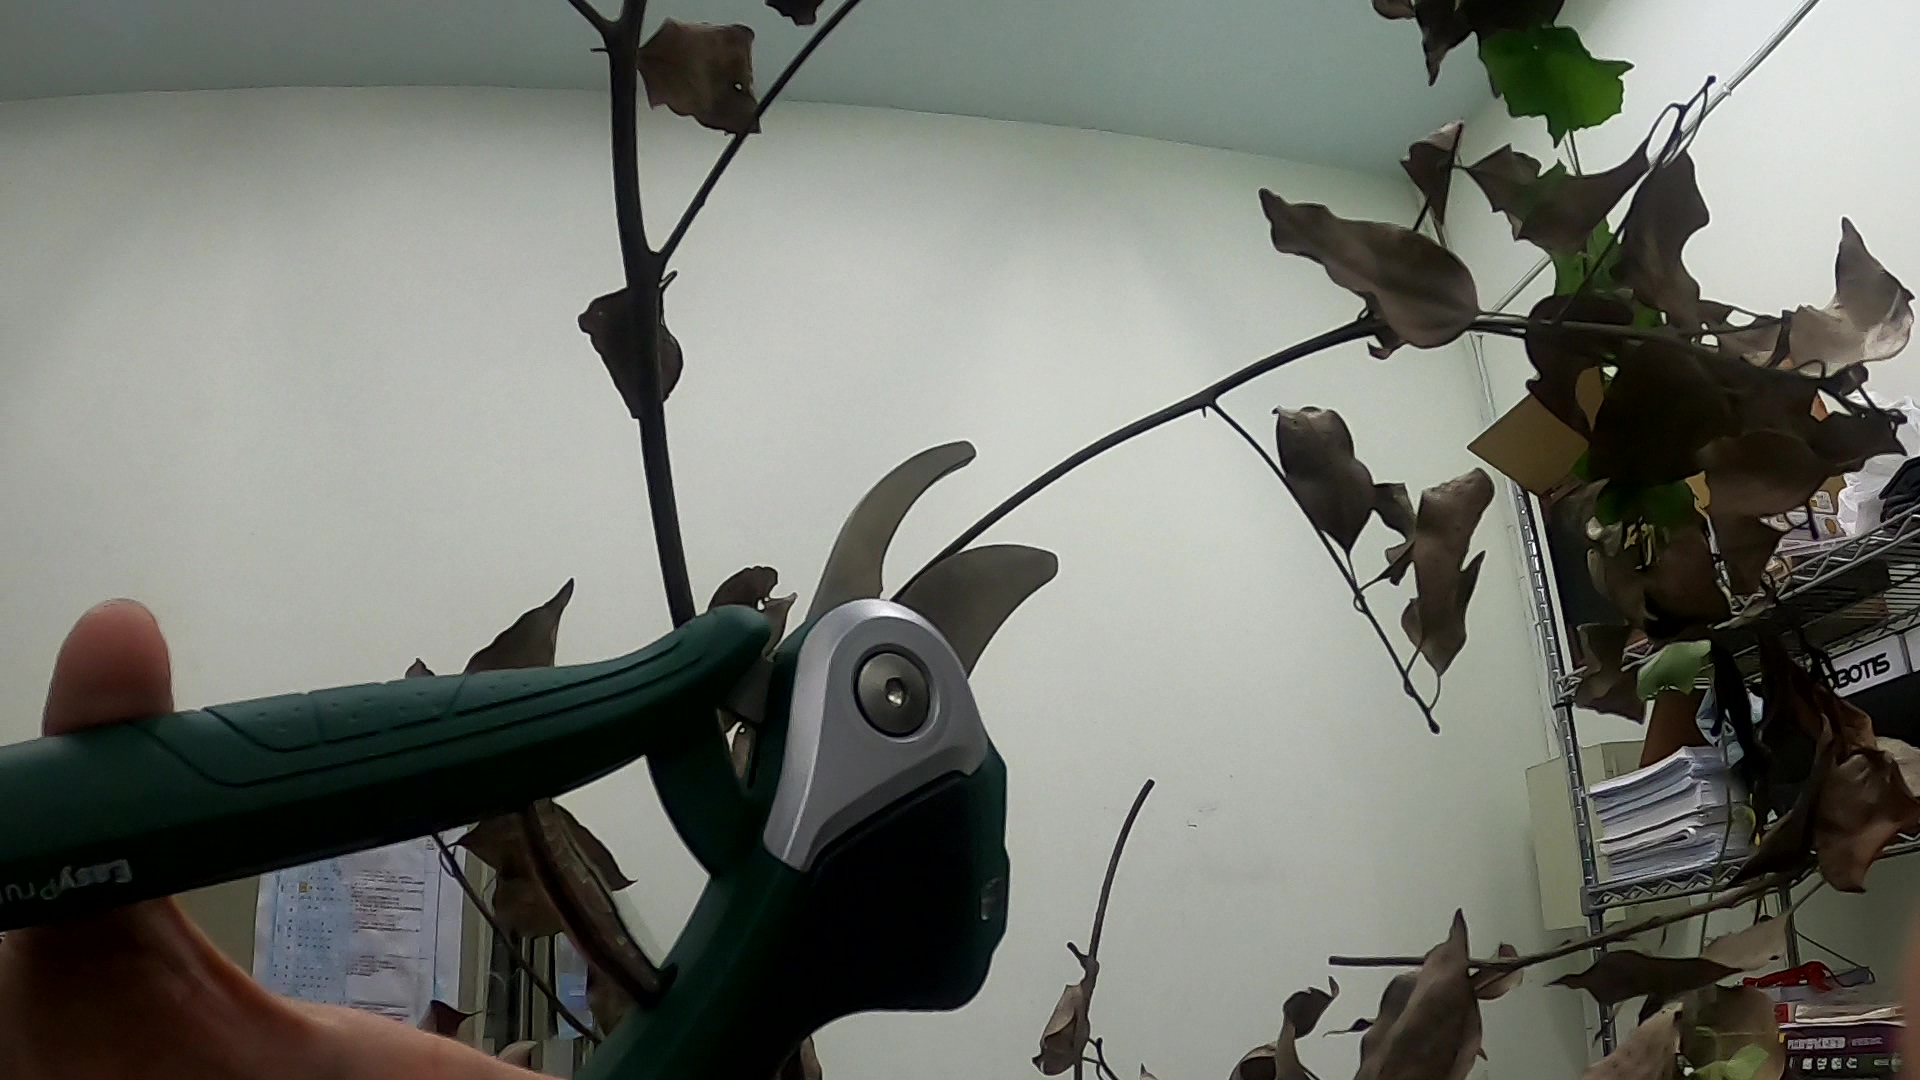ok: (7, 306, 1890, 1073)
scissors: (9, 431, 1056, 1077)
twig: (899, 320, 1896, 615), (1207, 401, 1455, 736), (1336, 861, 1811, 977), (674, 1, 851, 274), (1560, 73, 1717, 324), (415, 841, 600, 1052), (1058, 767, 1168, 1080), (1346, 125, 1482, 332), (1706, 665, 1741, 990), (572, 1, 612, 30)
